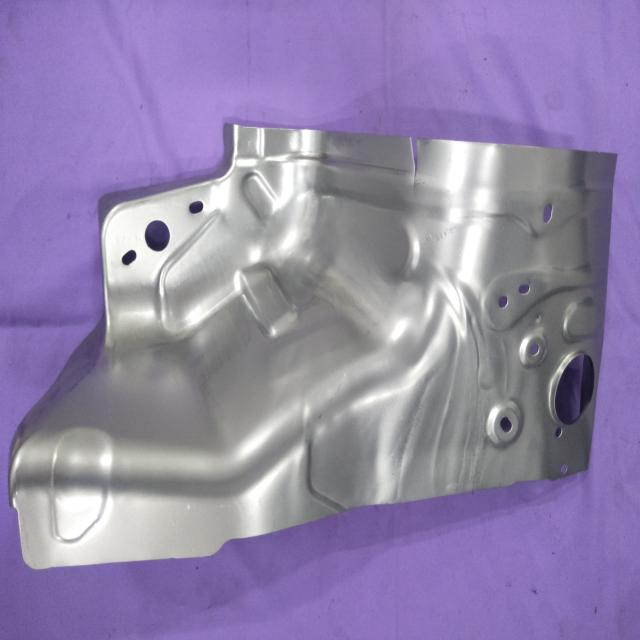Defect: (399, 139, 434, 217)
